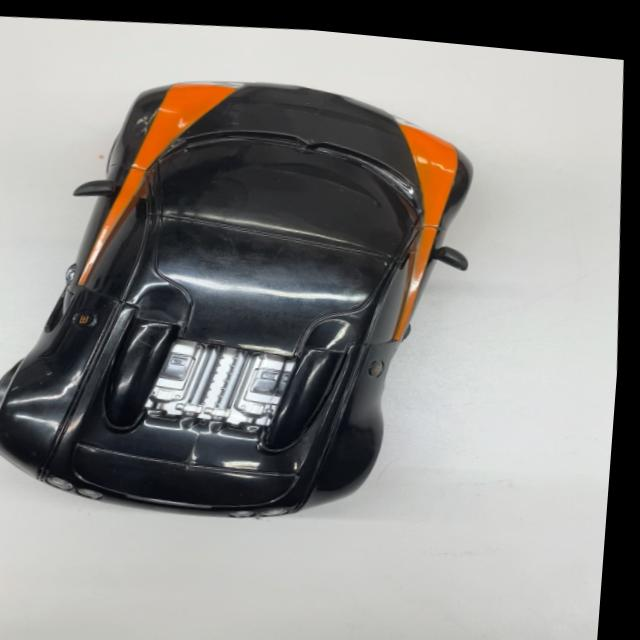vehicle_body: (0, 43, 500, 552)
